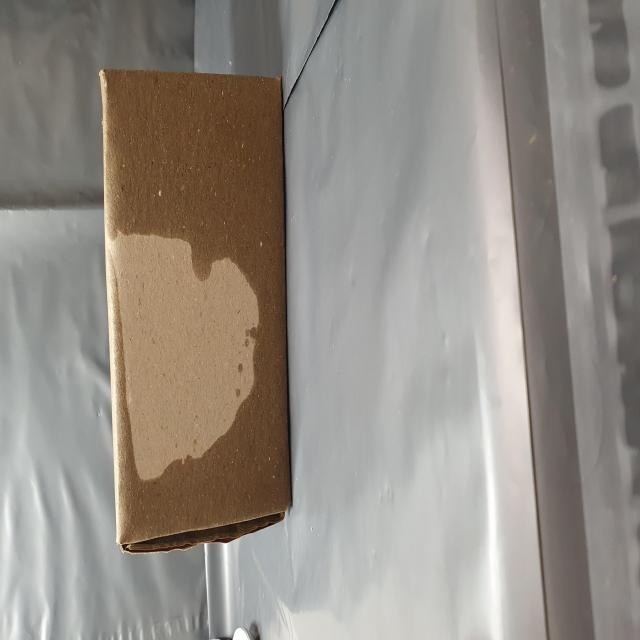wet: (51, 188, 322, 516)
